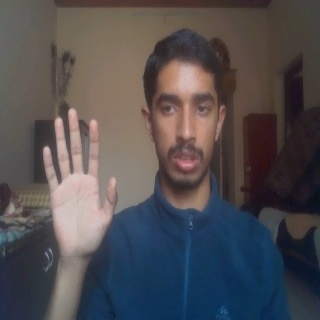Face: (141, 28, 228, 195)
Hello: (40, 106, 120, 264)
